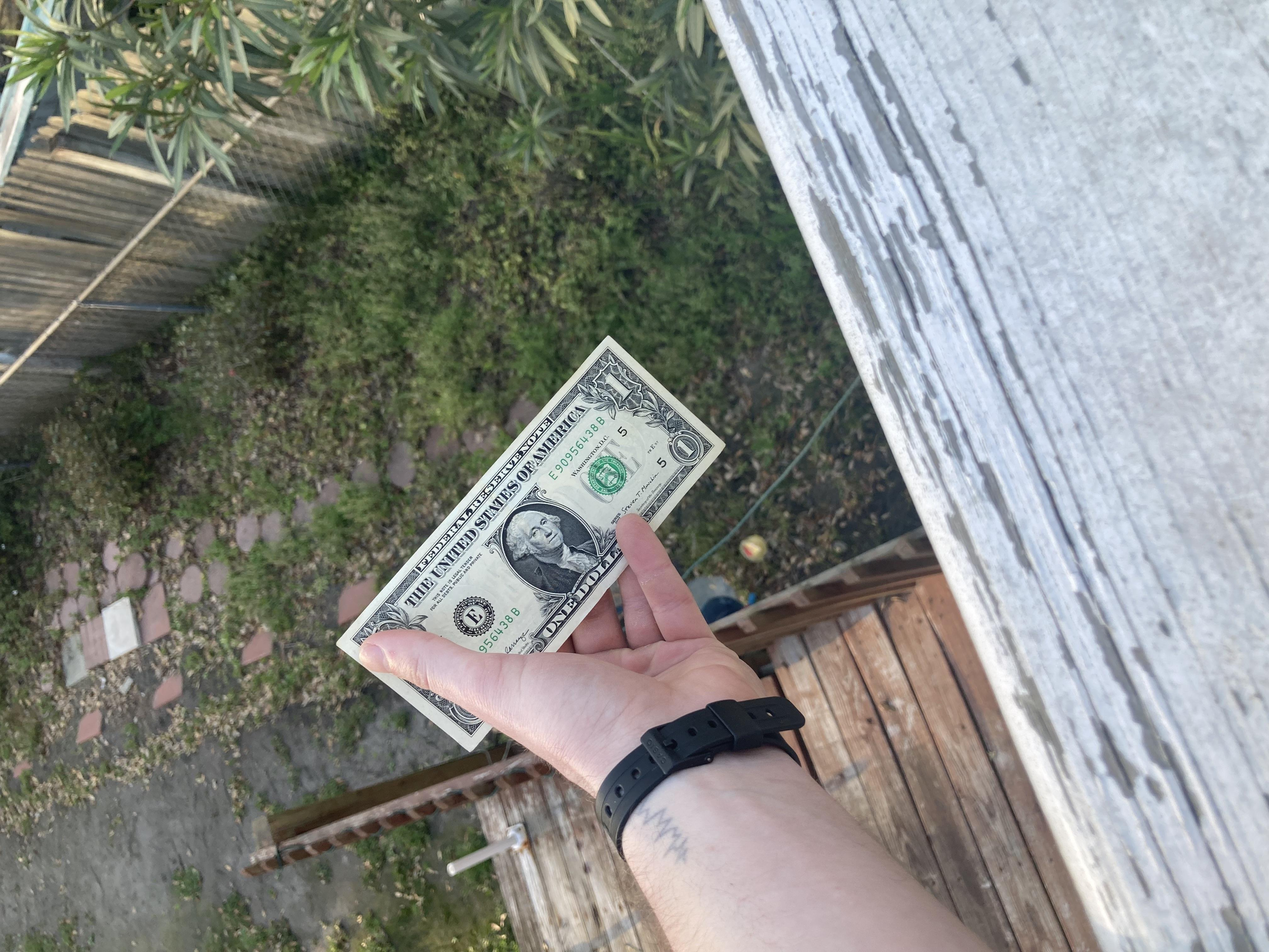one-front: (264, 252, 822, 546)
